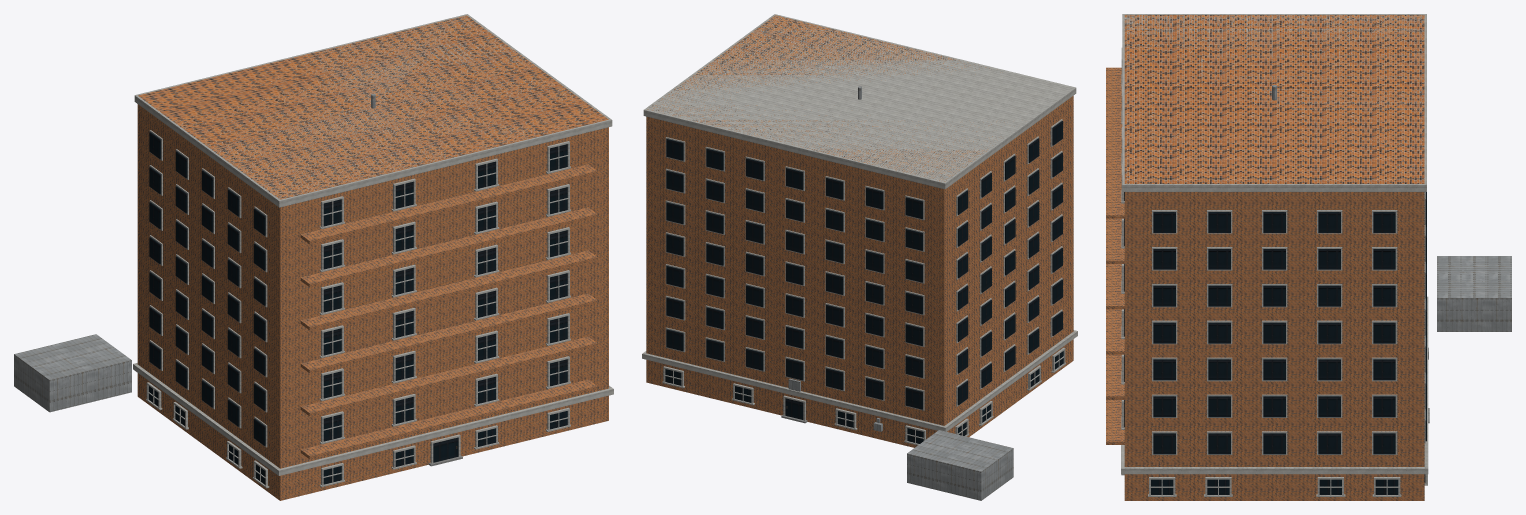
File: sibley-apartments_lod0.gltf
The picture shows the model from 3 angles, left to right: view 1: azimuth 30°, elevation 25°; view 2: azimuth 150°, elevation 25°; view 3: azimuth 270°, elevation 25°; orthographic projection. The views are drawn at different scales.
Visible parts, largest first — view 1: sibley-apartments_main, sibley-apartments__balconies, sibley-apartments_fen_07-glass-curtain-blue_1_t, sibley-apartments__parapet, sibley-apartments_fen_15-concrete-boardformed_0, sibley-apartments__playground, sibley-apartments__trim_band; view 2: sibley-apartments_main, sibley-apartments__parapet, sibley-apartments_fen_07-glass-curtain-blue_1_t, sibley-apartments_fen_15-concrete-boardformed_0, sibley-apartments__playground, sibley-apartments__trim_band; view 3: sibley-apartments_main, sibley-apartments_fen_07-glass-curtain-blue_1_t, sibley-apartments__parapet, sibley-apartments_fen_15-concrete-boardformed_0, sibley-apartments__balconies, sibley-apartments__playground, sibley-apartments__trim_band.
Part boxes in pixels (x1,y1,x2,y2): sibley-apartments_main: (137, 15, 608, 500); sibley-apartments__balconies: (300, 164, 597, 459); sibley-apartments_fen_07-glass-curtain-blue_1_t: (148, 132, 567, 484); sibley-apartments__parapet: (134, 14, 612, 207); sibley-apartments_fen_15-concrete-boardformed_0: (146, 130, 570, 488); sibley-apartments__playground: (14, 334, 131, 412); sibley-apartments__trim_band: (133, 363, 613, 475); sibley-apartments_main: (646, 15, 1073, 447); sibley-apartments__parapet: (643, 14, 1076, 189); sibley-apartments_fen_07-glass-curtain-blue_1_t: (665, 121, 1063, 443); sibley-apartments_fen_15-concrete-boardformed_0: (662, 119, 1065, 445); sibley-apartments__playground: (907, 430, 1013, 500); sibley-apartments__trim_band: (642, 330, 1077, 431); sibley-apartments_main: (1124, 15, 1424, 500); sibley-apartments_fen_07-glass-curtain-blue_1_t: (1124, 192, 1426, 494); sibley-apartments__parapet: (1122, 14, 1426, 191); sibley-apartments_fen_15-concrete-boardformed_0: (1121, 48, 1427, 496); sibley-apartments__balconies: (1106, 67, 1124, 444); sibley-apartments__playground: (1437, 256, 1511, 331); sibley-apartments__trim_band: (1121, 296, 1428, 474).
Size of the model in its own units: 40.3 by 29.2 by 32.5.
